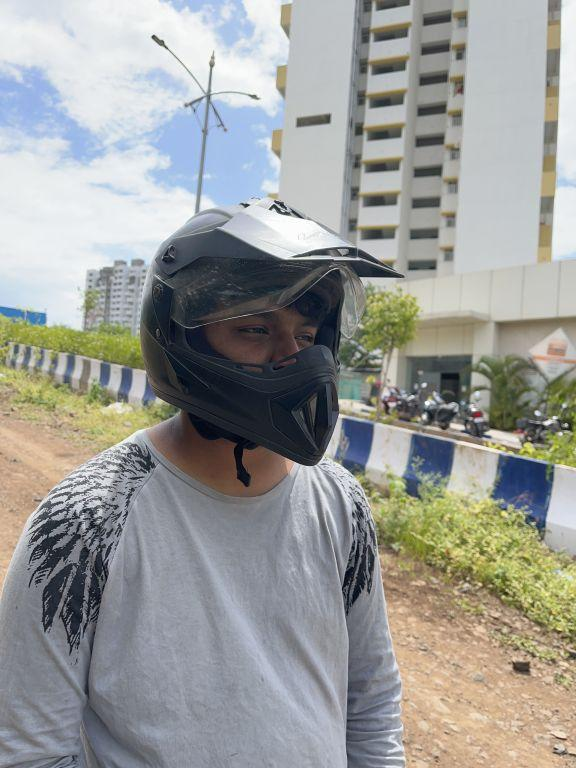helmet: (127, 175, 413, 475)
